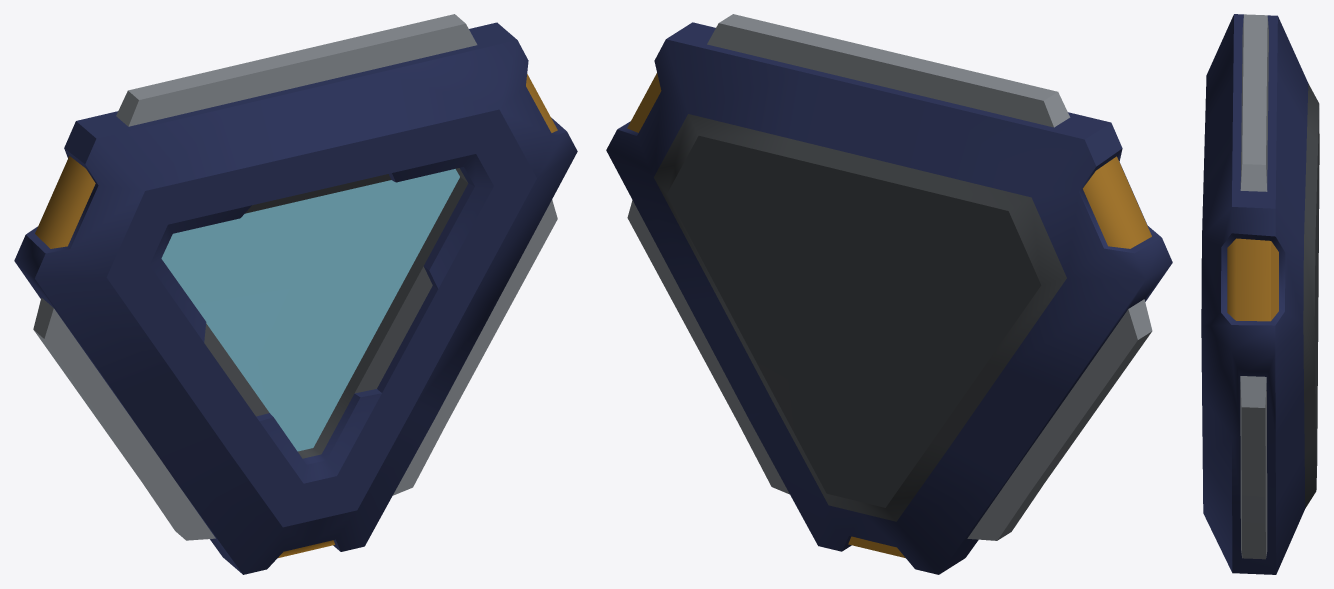
File: ChronoIvanBomb.fbx
The picture shows the model from 3 angles, left to right: view 1: azimuth 30°, elevation 25°; view 2: azimuth 150°, elevation 25°; view 3: azimuth 270°, elevation 25°; orthographic projection. The views are drawn at different scales.
Visible parts, largest first — view 1: IvanBomb.Master; view 2: IvanBomb.Master; view 3: IvanBomb.Master.
Part boxes in pixels (box(x1,y1,x2,y2)): IvanBomb.Master: box(14, 14, 577, 574); IvanBomb.Master: box(606, 14, 1172, 574); IvanBomb.Master: box(1201, 14, 1319, 574).
Bounding box in the file's own units: 67.77 × 58.95 × 13.74.
